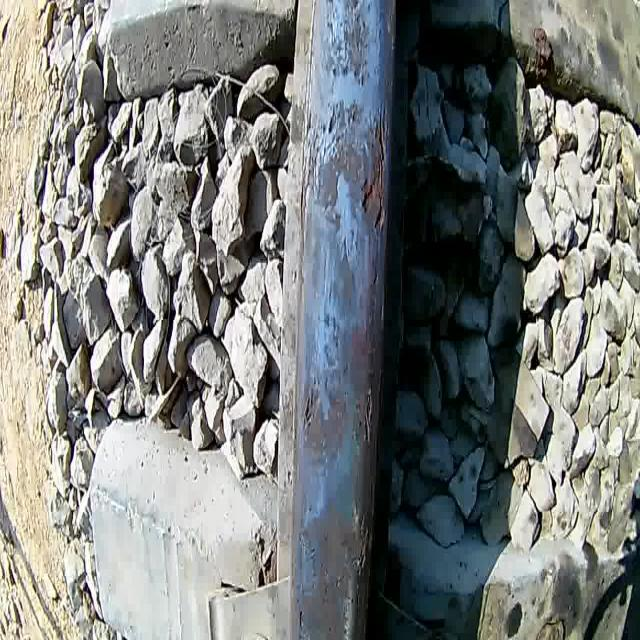Cracks: (368, 94, 389, 194)
Spallings: (359, 169, 387, 243), (351, 501, 370, 602), (358, 374, 376, 455), (300, 373, 318, 443), (322, 97, 344, 138)
Squats: (288, 491, 371, 640), (302, 94, 366, 234), (316, 309, 372, 409), (318, 0, 374, 92), (298, 380, 352, 470), (325, 233, 362, 323)
